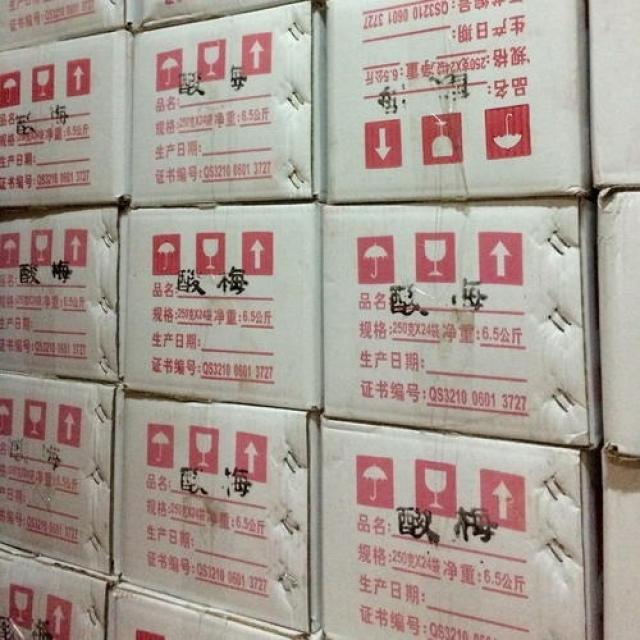box: (322, 199, 600, 447), (318, 414, 596, 639), (326, 0, 594, 203), (115, 389, 318, 636), (123, 204, 322, 408), (133, 1, 326, 204), (0, 371, 119, 579), (0, 30, 134, 210), (0, 208, 126, 384), (594, 189, 639, 456), (103, 581, 302, 638), (0, 548, 112, 639), (586, 0, 639, 188), (595, 449, 639, 639), (0, 0, 128, 50), (130, 1, 311, 32)
